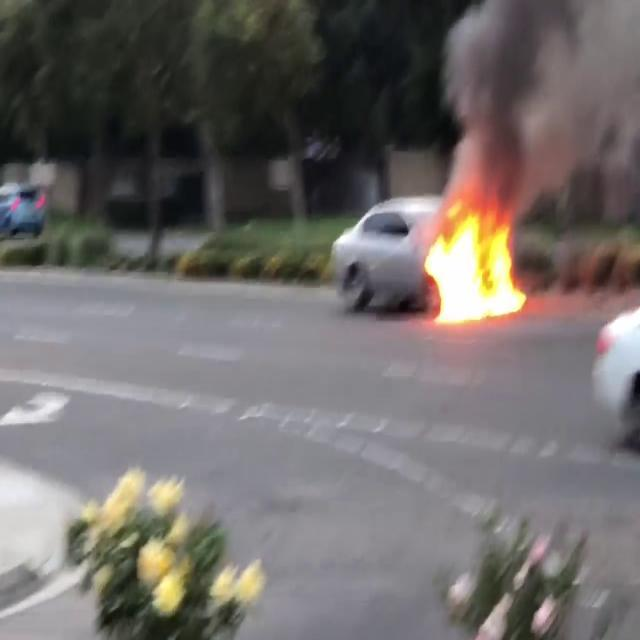Fire: (422, 196, 526, 327)
Smoke: (438, 0, 640, 202)
